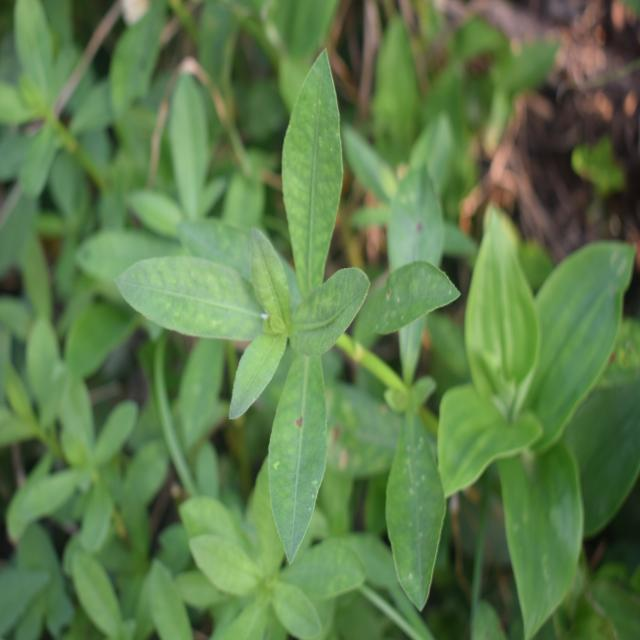Alligatorweed: (109, 70, 420, 539)
